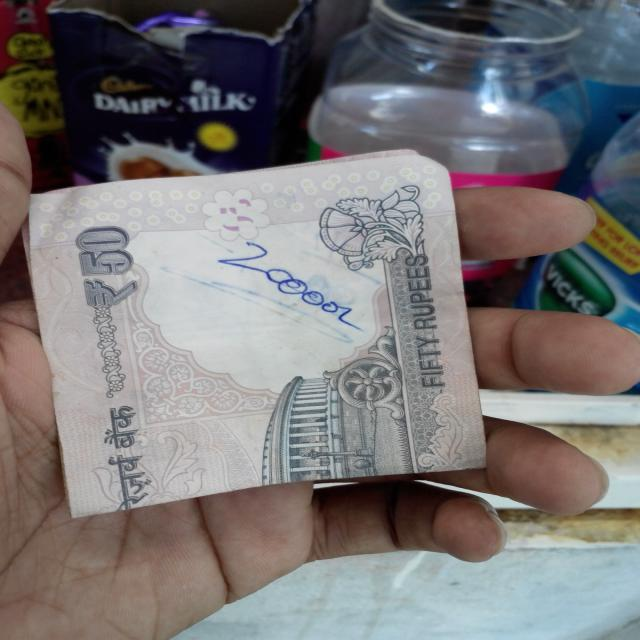50rs: (12, 151, 528, 513)
